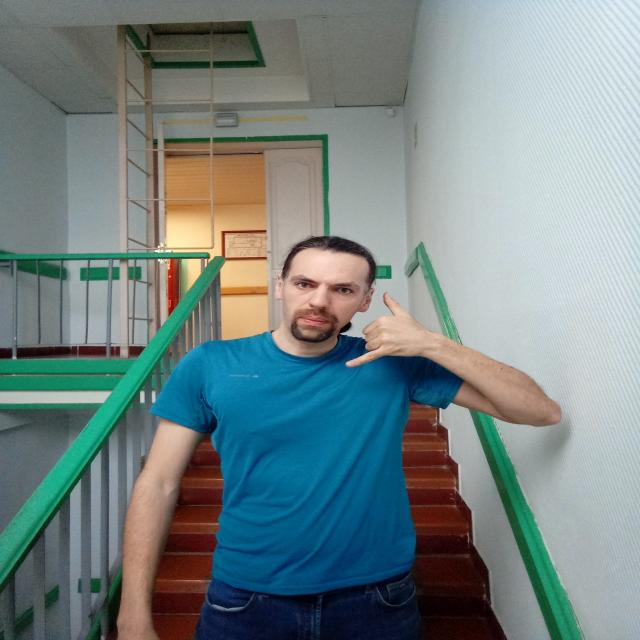call: (343, 292, 430, 369)
